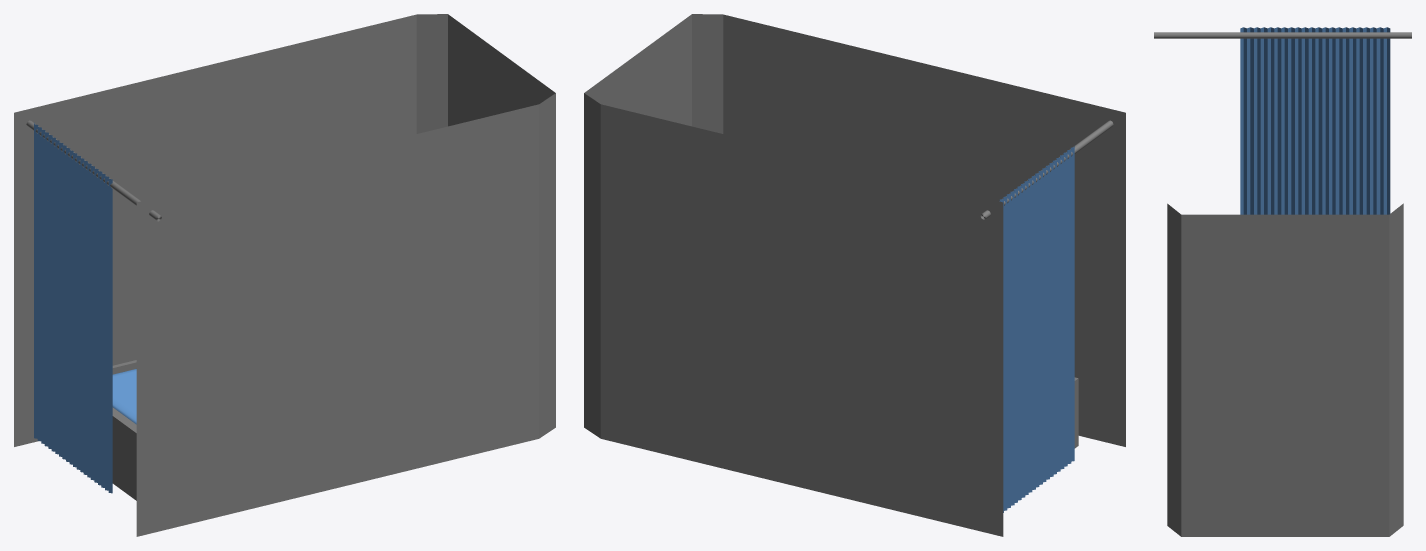
File: normalbed.glb
The picture shows the model from 3 angles, left to right: view 1: azimuth 30°, elevation 25°; view 2: azimuth 150°, elevation 25°; view 3: azimuth 270°, elevation 25°; orthographic projection. The views are drawn at different scales.
Visible parts, largest first — view 1: Cube.027, Plane.004, Cube.007, Object_3, Cylinder.012; view 2: Cube.027, Plane.004, Cylinder.012; view 3: Cube.027, Plane.004, Cylinder.012.
Part boxes in pixels (x1,y1,x2,y2): Cube.027: [14, 14, 555, 536]; Plane.004: [34, 122, 112, 493]; Cube.007: [112, 360, 136, 500]; Object_3: [112, 369, 136, 424]; Cylinder.012: [26, 120, 161, 221]; Cube.027: [584, 14, 1125, 536]; Plane.004: [999, 145, 1074, 512]; Cylinder.012: [980, 120, 1113, 219]; Cube.027: [1167, 203, 1403, 536]; Plane.004: [1240, 27, 1390, 214]; Cylinder.012: [1154, 32, 1411, 38].
Size of the model in its own units: 11.91 by 8.98 by 6.47.
